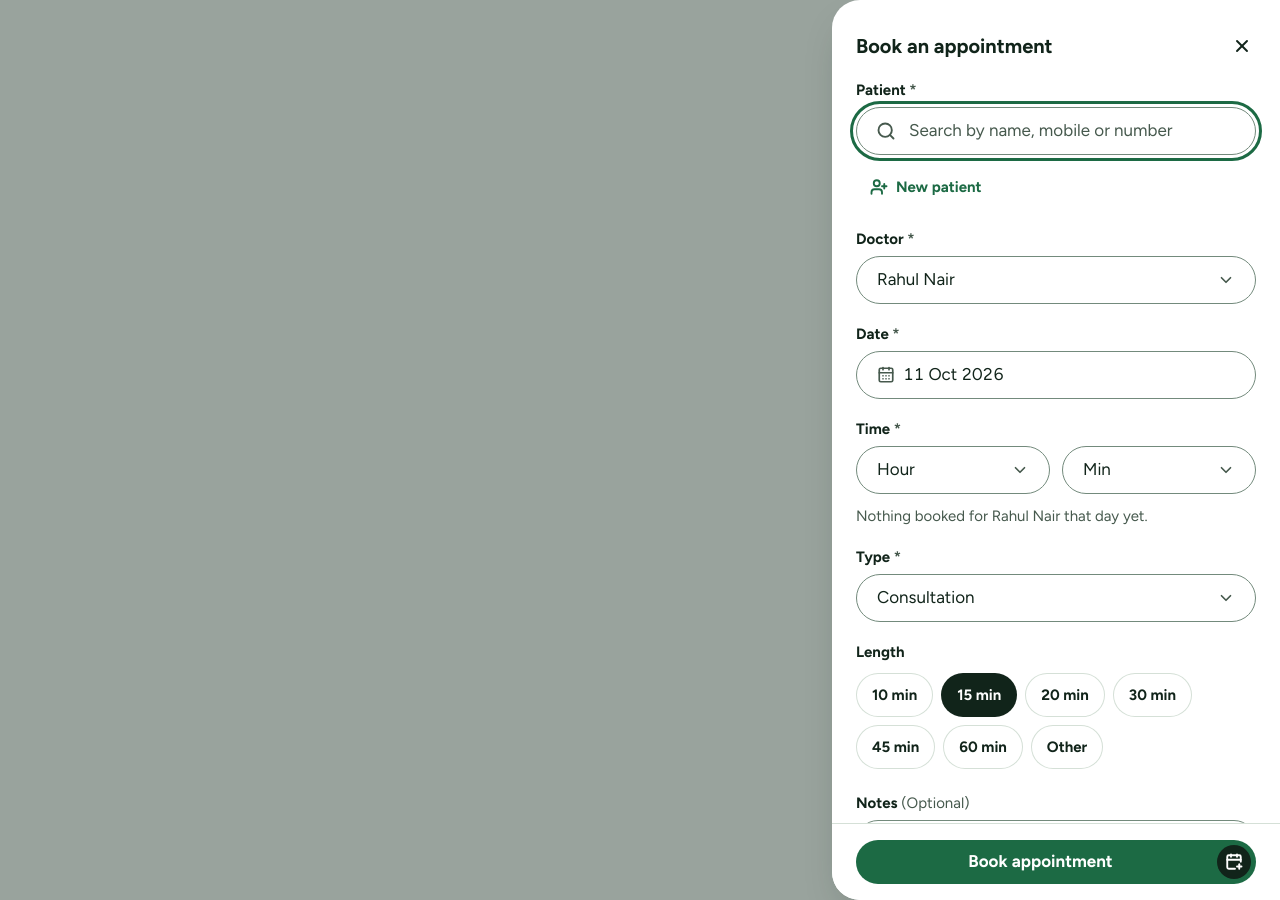
Test: BookingSheet (plan §11.1; D144 – D151) › chooses one already on the mobile instead, and goes back to the search
Click the button "New patient". click: [926, 187]
box: [856,165,996,209]
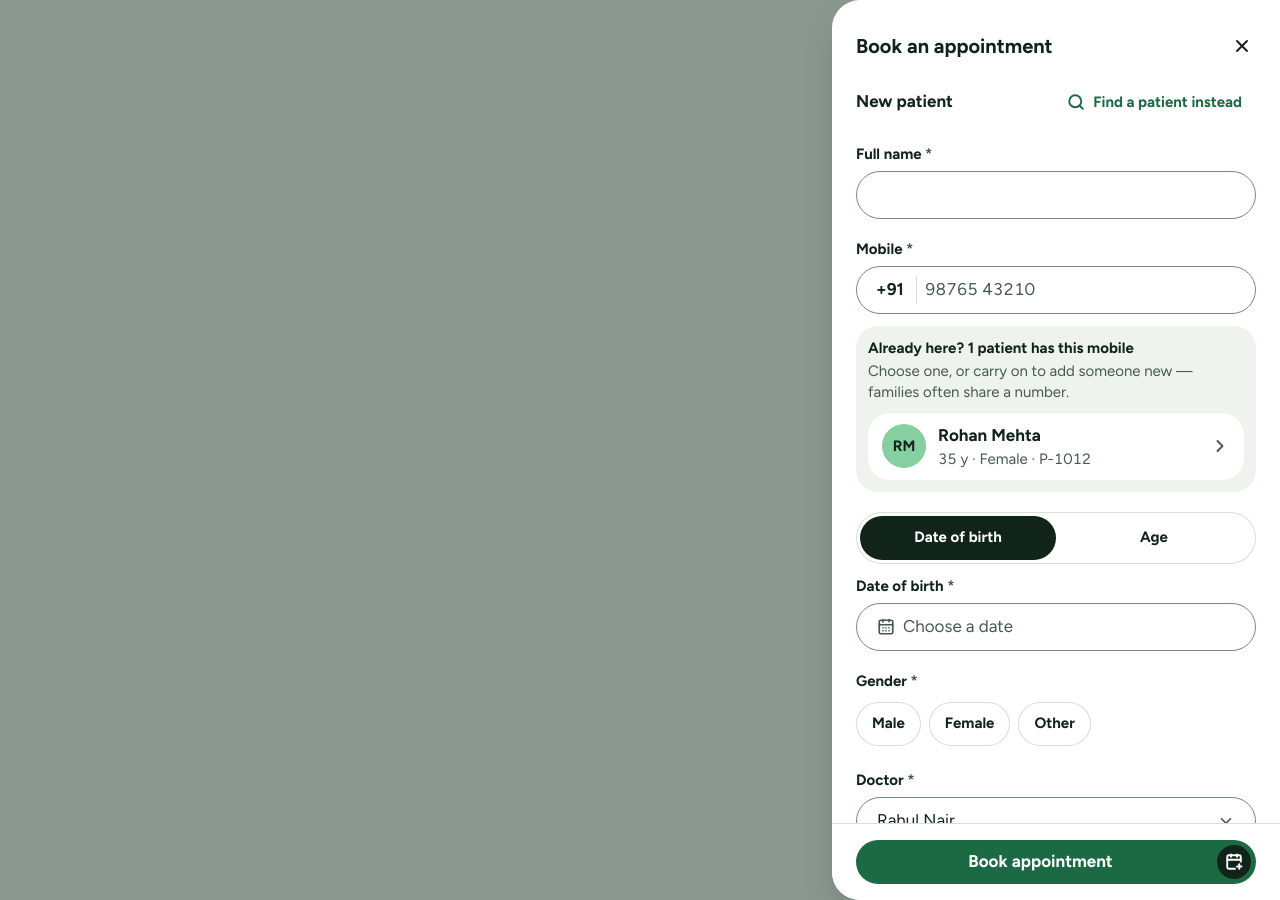
Click the button "Rohan Mehta". click: [989, 435]
box: [938,423,1198,448]
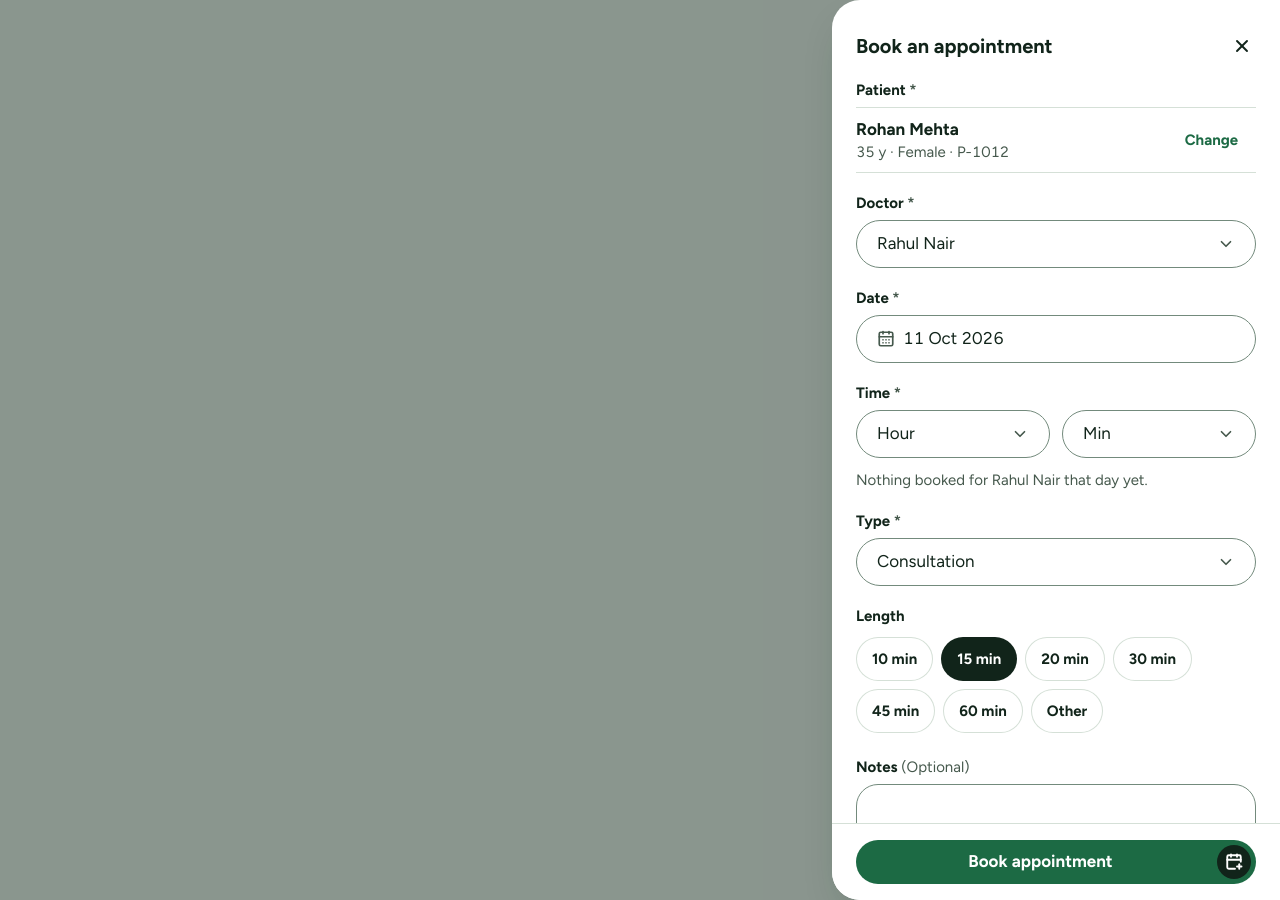
Expected: the button with aria-label "Change Rohan Mehta" is shown
Click the button with aria-label "Change Rohan Mehta". click: [1211, 140]
box: [1171,118,1252,162]
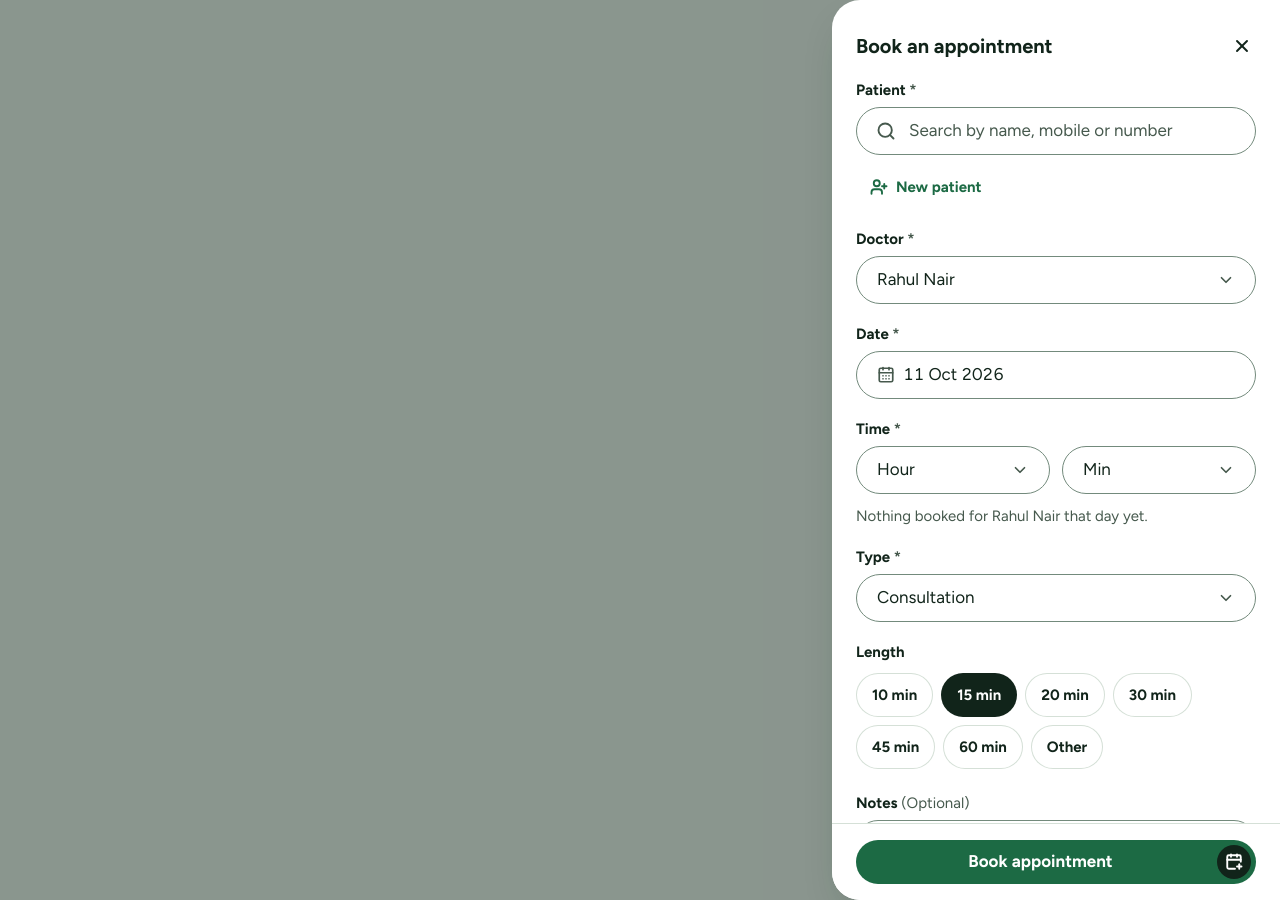
Click the button "New patient". click: [926, 187]
box: [856,165,996,209]
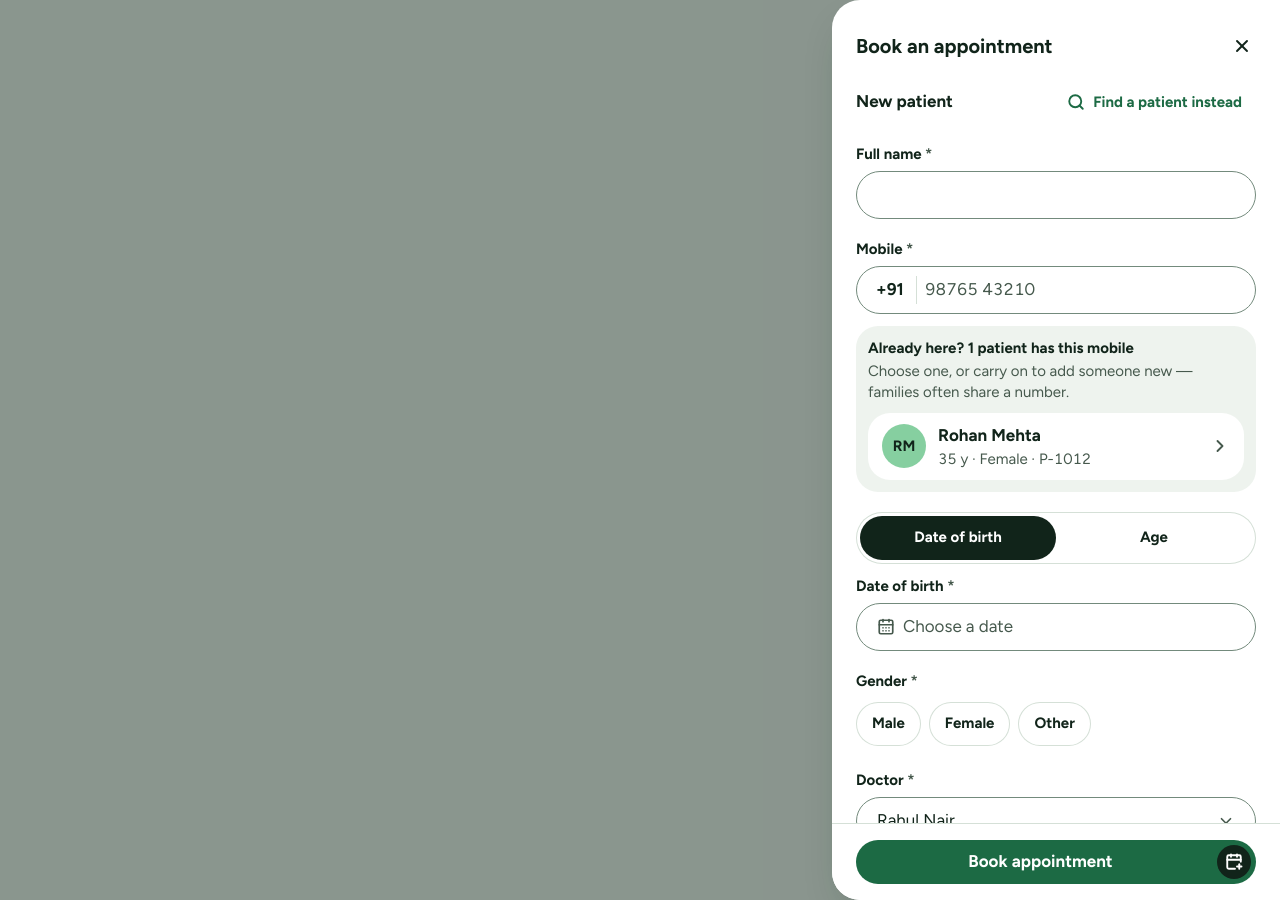
Click the button "Find a patient instead". click: [1155, 102]
box: [1053,80,1256,124]
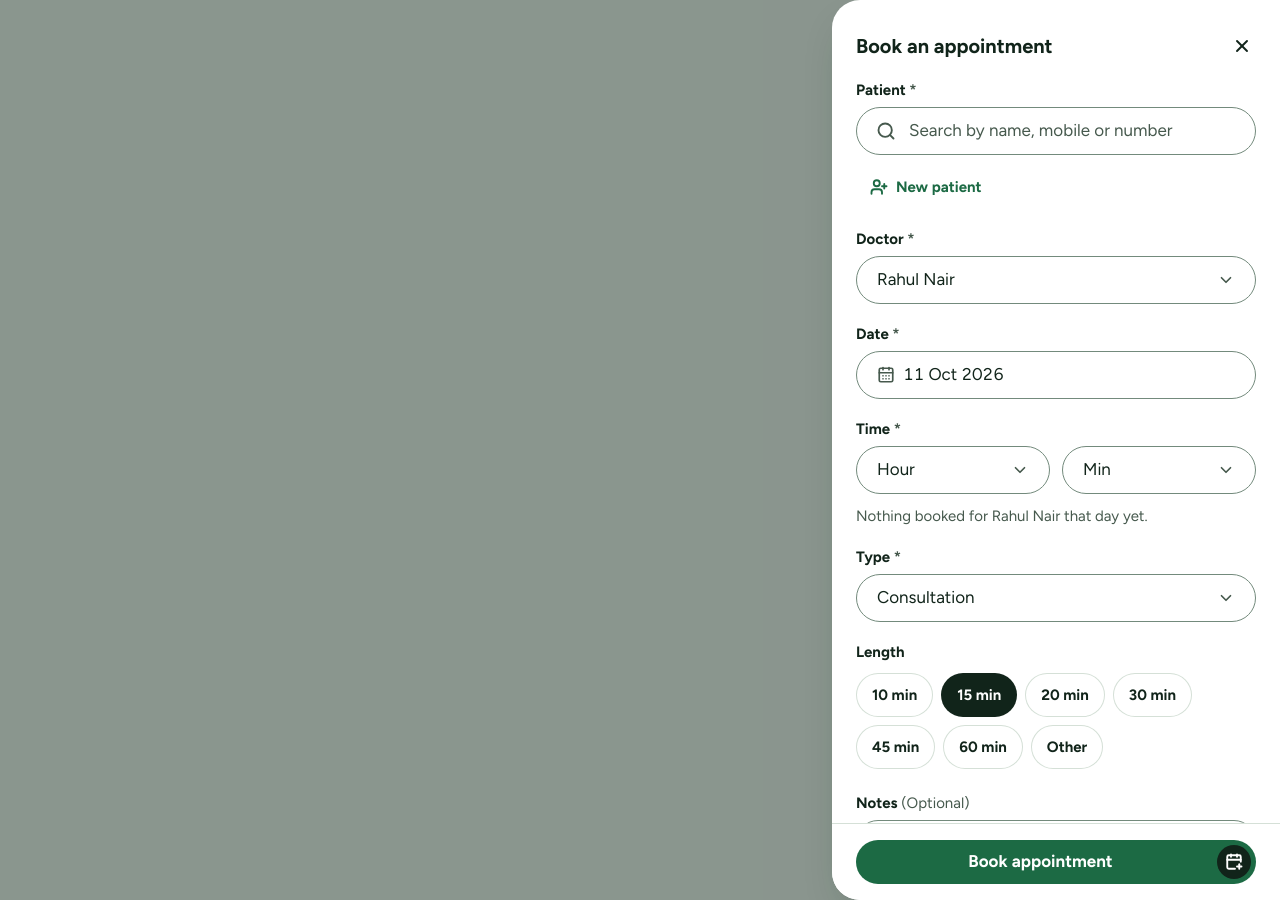
Expected: the search field is shown, [856,107,1256,155]
